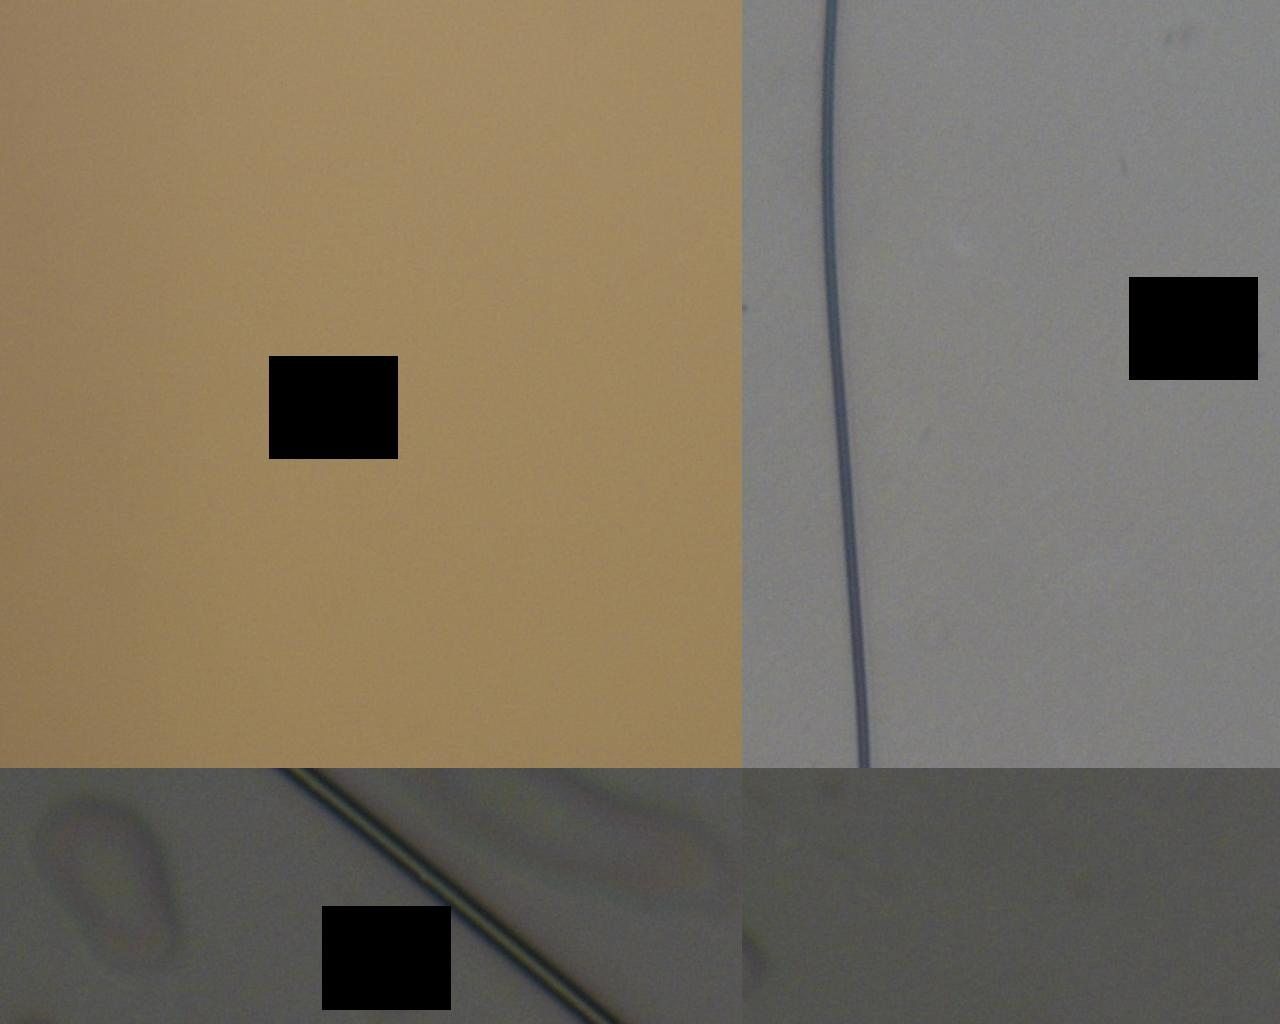fiber: (43, 348, 171, 1024), (956, 0, 1102, 348)
